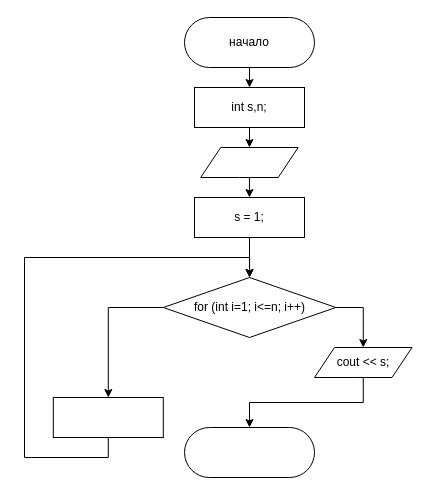
The diagram is 430 pixels wide and 495 high, and some of its shapes have lost their labels. The centre of each missing label's shape, as x and y in pixels:
cin >> n;: [249,162]
s = s*i;: [107,417]
конец: [249,452]
